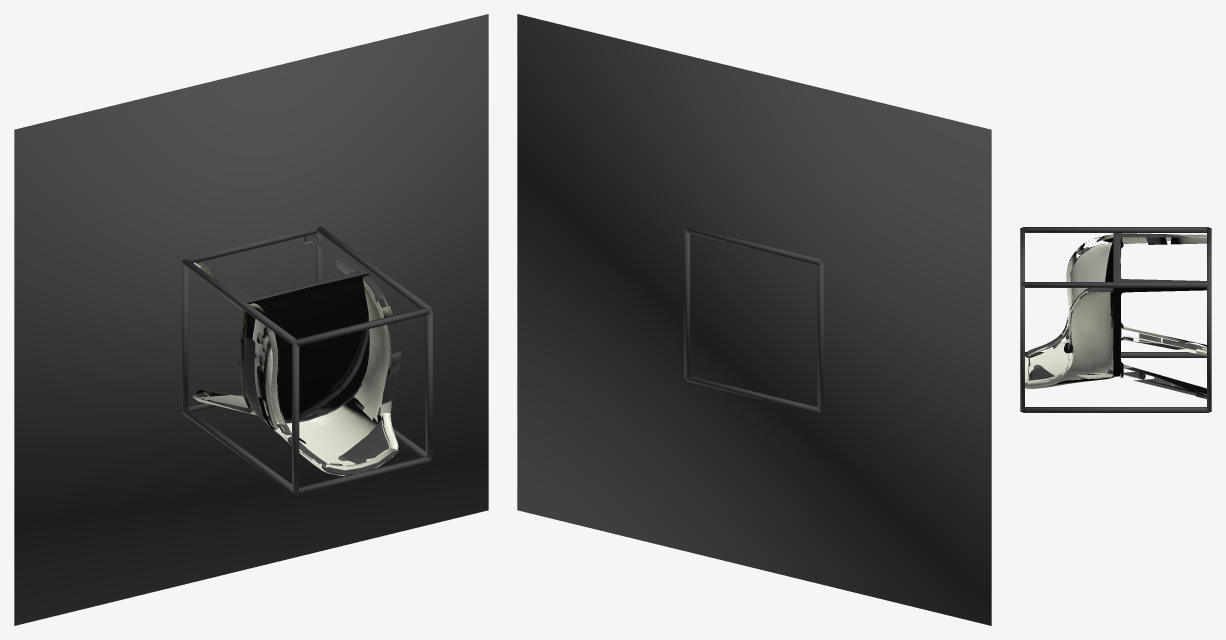
3 views of the same model, side by side, from view 1: azimuth 30°, elevation 25°; view 2: azimuth 150°, elevation 25°; view 3: azimuth 270°, elevation 25° (orthographic). The views are drawn at different scales.
Size of the model in its own units: 2 by 2 by 0.8306.
